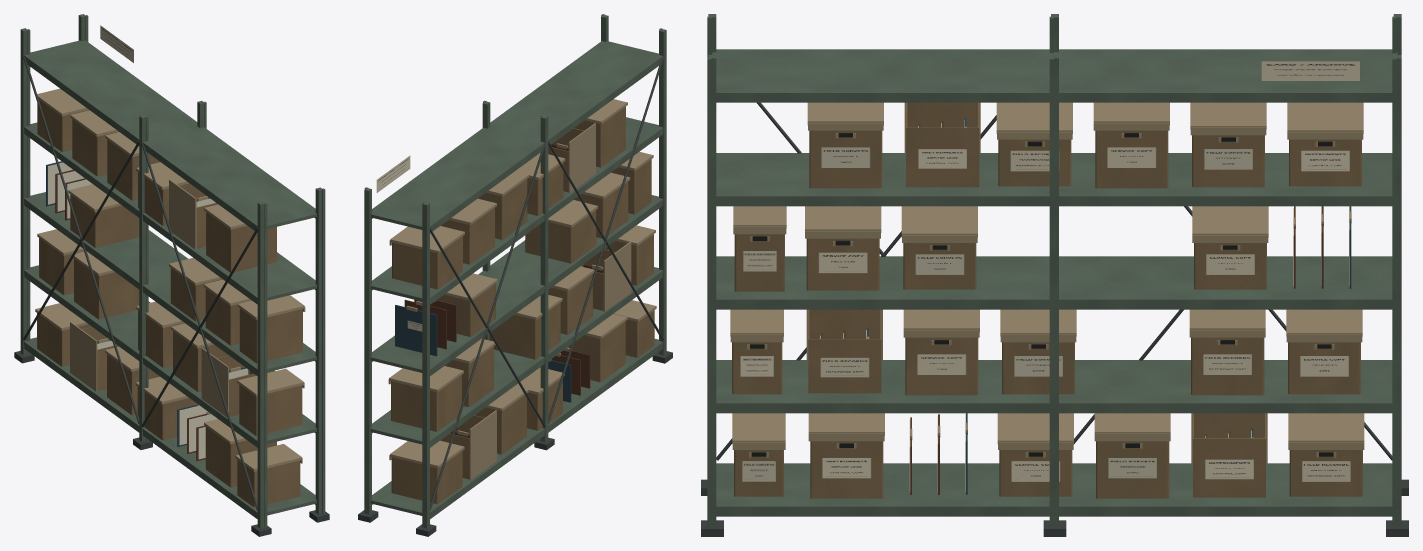
The model's file is SM_ArchiveProps_ShelvingStorage_LOD1.fbx.
3 views of the same model, side by side, from view 1: azimuth 30°, elevation 25°; view 2: azimuth 150°, elevation 25°; view 3: azimuth 270°, elevation 25° (orthographic). The views are drawn at different scales.
Visible parts, largest first — view 1: SM_ArchiveProps_ShelvingStorage_LOD1; view 2: SM_ArchiveProps_ShelvingStorage_LOD1; view 3: SM_ArchiveProps_ShelvingStorage_LOD1.
Boxes of the visible parts, left/top/right/bottom form: SM_ArchiveProps_ShelvingStorage_LOD1: left=14, top=14, right=329, bottom=536; SM_ArchiveProps_ShelvingStorage_LOD1: left=358, top=14, right=672, bottom=536; SM_ArchiveProps_ShelvingStorage_LOD1: left=701, top=14, right=1408, bottom=536.
Size of the model in its own units: 0.514 by 3.1 by 2.3.
